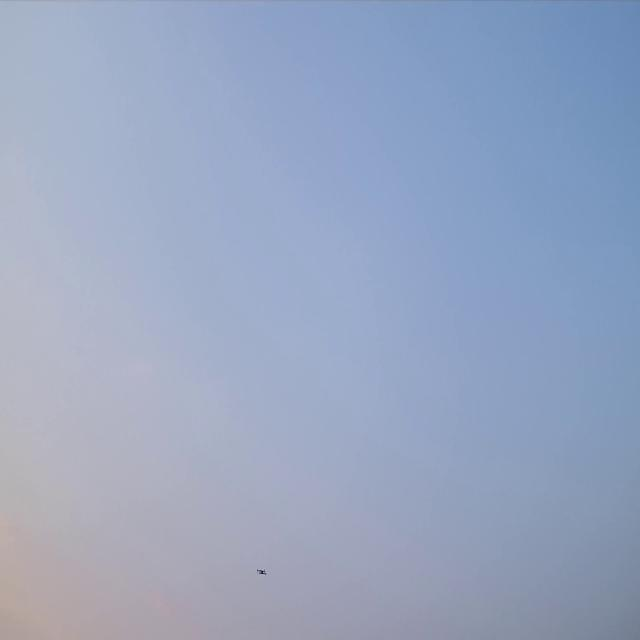UAV: (257, 569, 266, 574)
